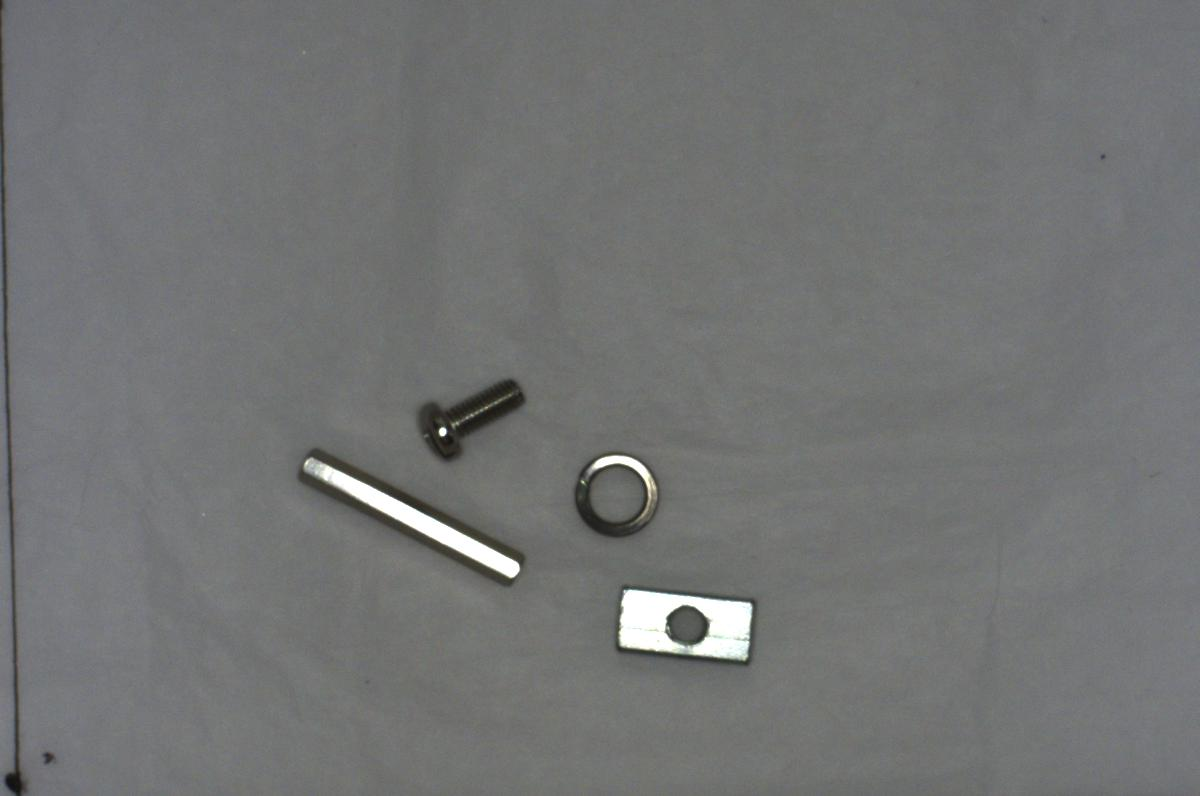Double hexagonal column: (297, 450, 524, 588)
Rectangular nut: (611, 583, 759, 668)
Round head screw: (414, 370, 530, 463)
Spring washer: (566, 446, 666, 542)
